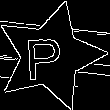P_N: (29, 30, 71, 82)
